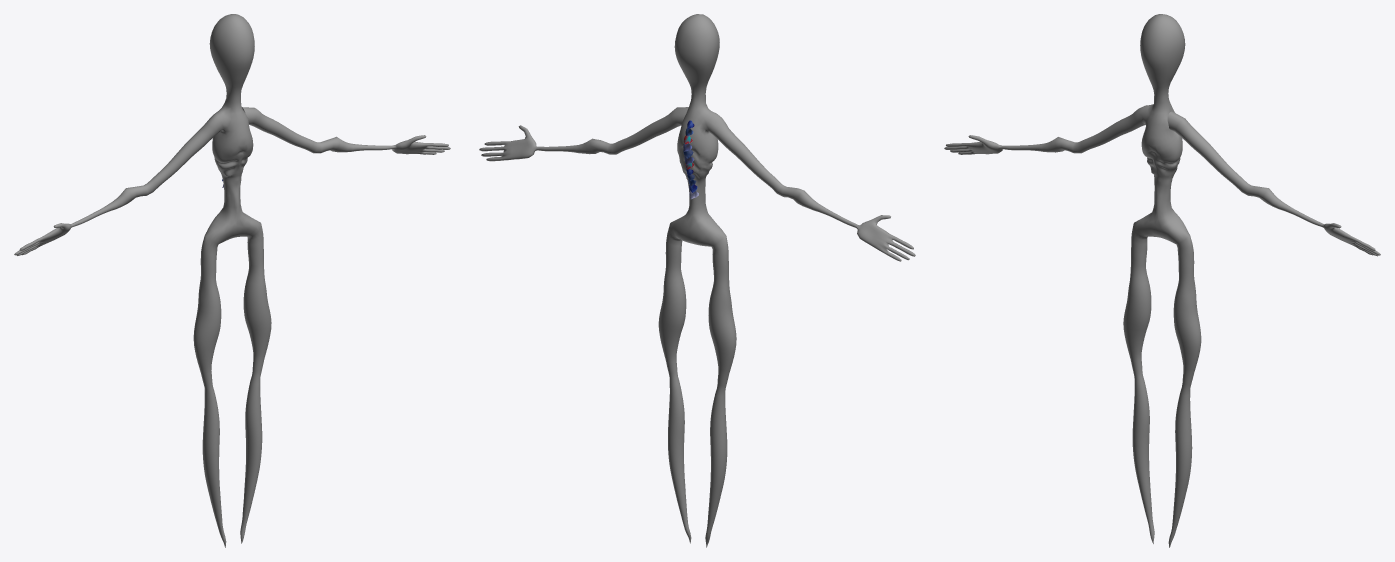
Rendered from Protagonist.FBX.
3 views of the same model, side by side, from view 1: azimuth 30°, elevation 25°; view 2: azimuth 150°, elevation 25°; view 3: azimuth 330°, elevation 25° (orthographic).
Parts seen in each view (by area): view 1: 低模最终uv, 对象005; view 2: 低模最终uv, 对象005; view 3: 低模最终uv, 对象005.
Part boxes in pixels (left/top/right/bottom): 低模最终uv: left=14, top=14, right=271, bottom=547; 对象005: left=242, top=107, right=450, bottom=154; 低模最终uv: left=658, top=14, right=915, bottom=547; 对象005: left=479, top=107, right=688, bottom=161; 低模最终uv: left=944, top=14, right=1201, bottom=547; 对象005: left=1167, top=111, right=1380, bottom=256.
Bounding box in the file's own units: 40.68 × 47.28 × 4.3.
